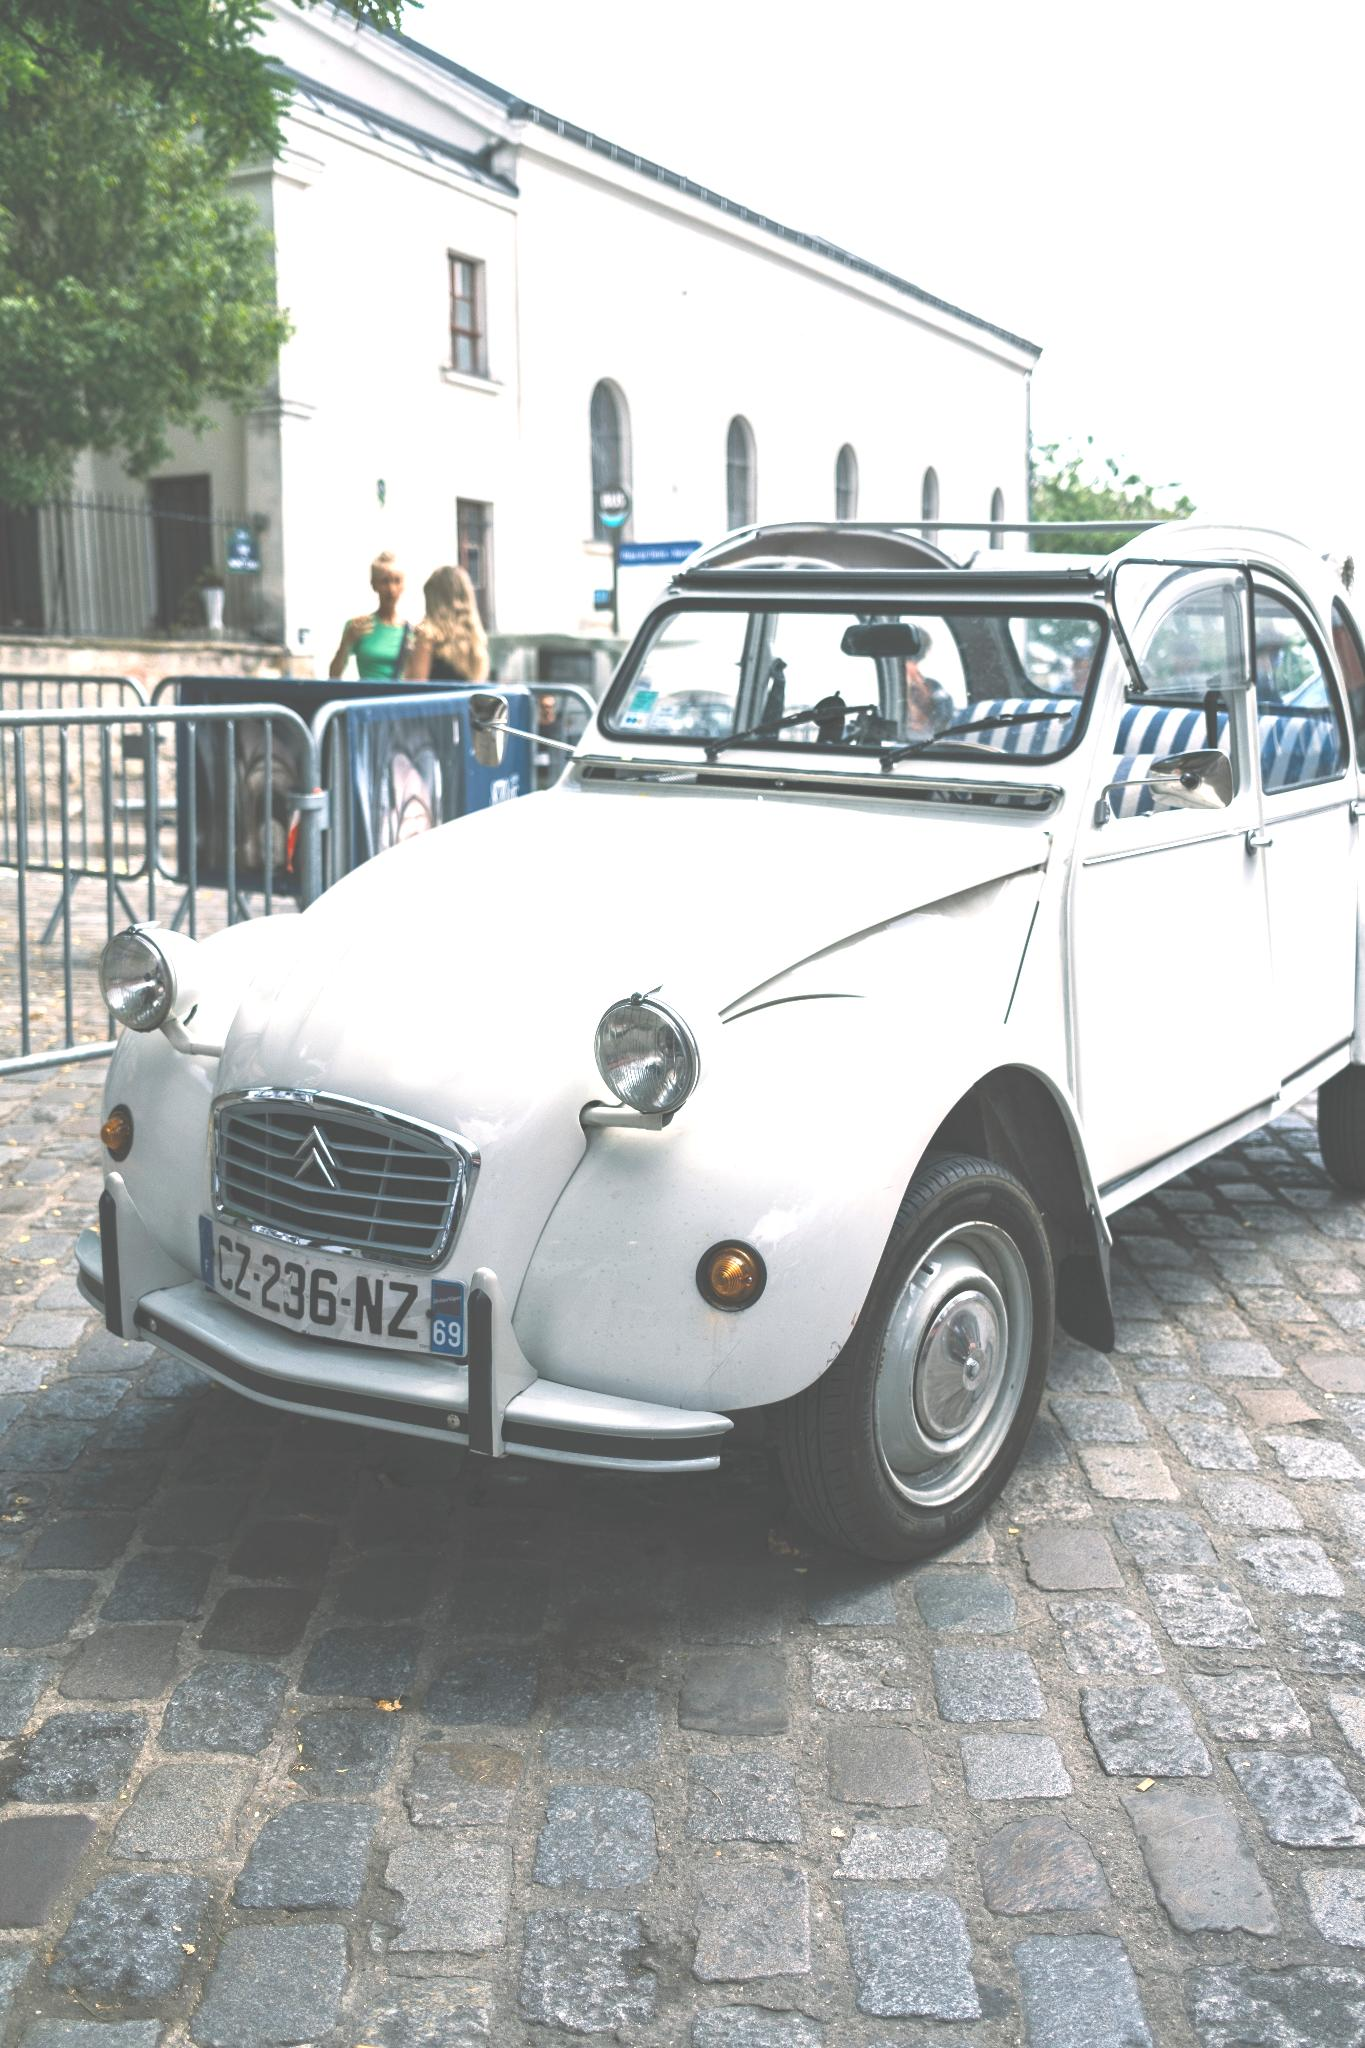Citroen: (248, 1096, 375, 1230)
